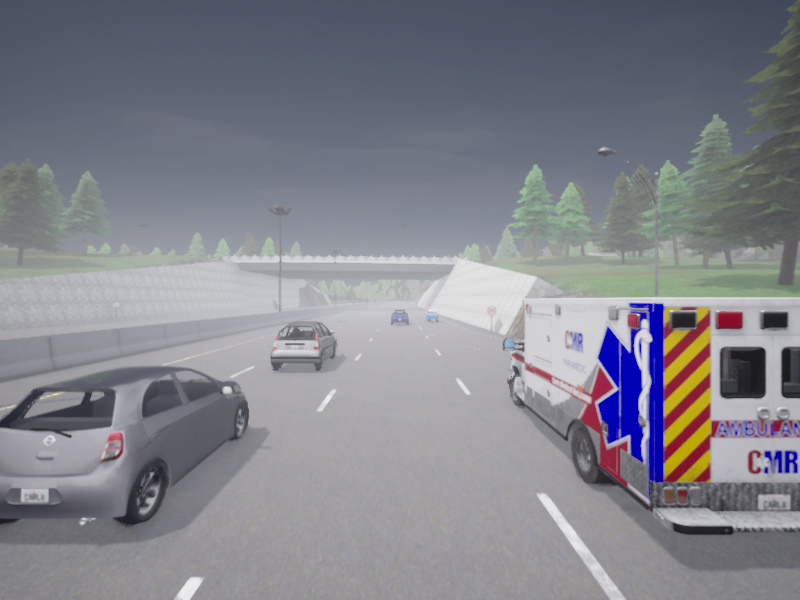vehicle: (503, 297, 799, 534), (0, 365, 248, 525), (270, 321, 336, 369), (391, 309, 408, 324), (425, 309, 437, 321)
